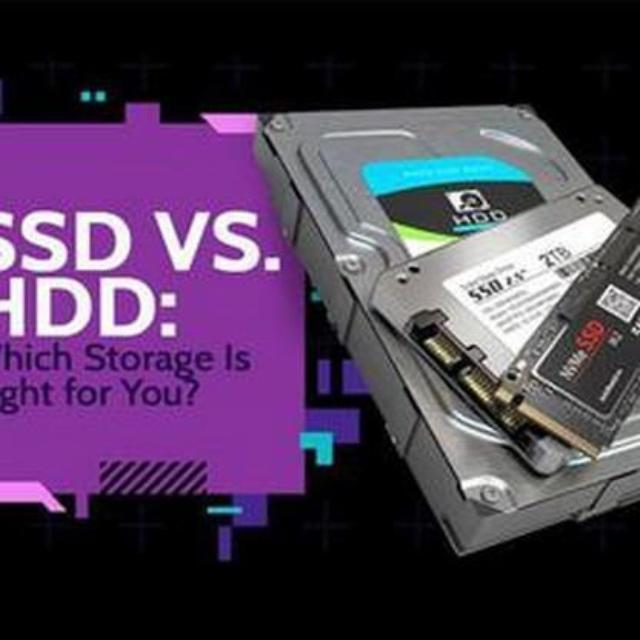DISK: (258, 86, 640, 562), (382, 192, 640, 470)
